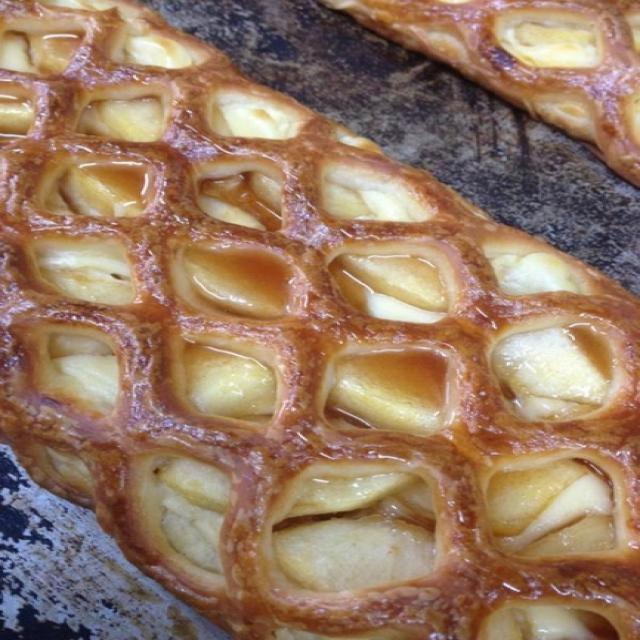Apple: (24, 208, 634, 634), (353, 1, 633, 141)
